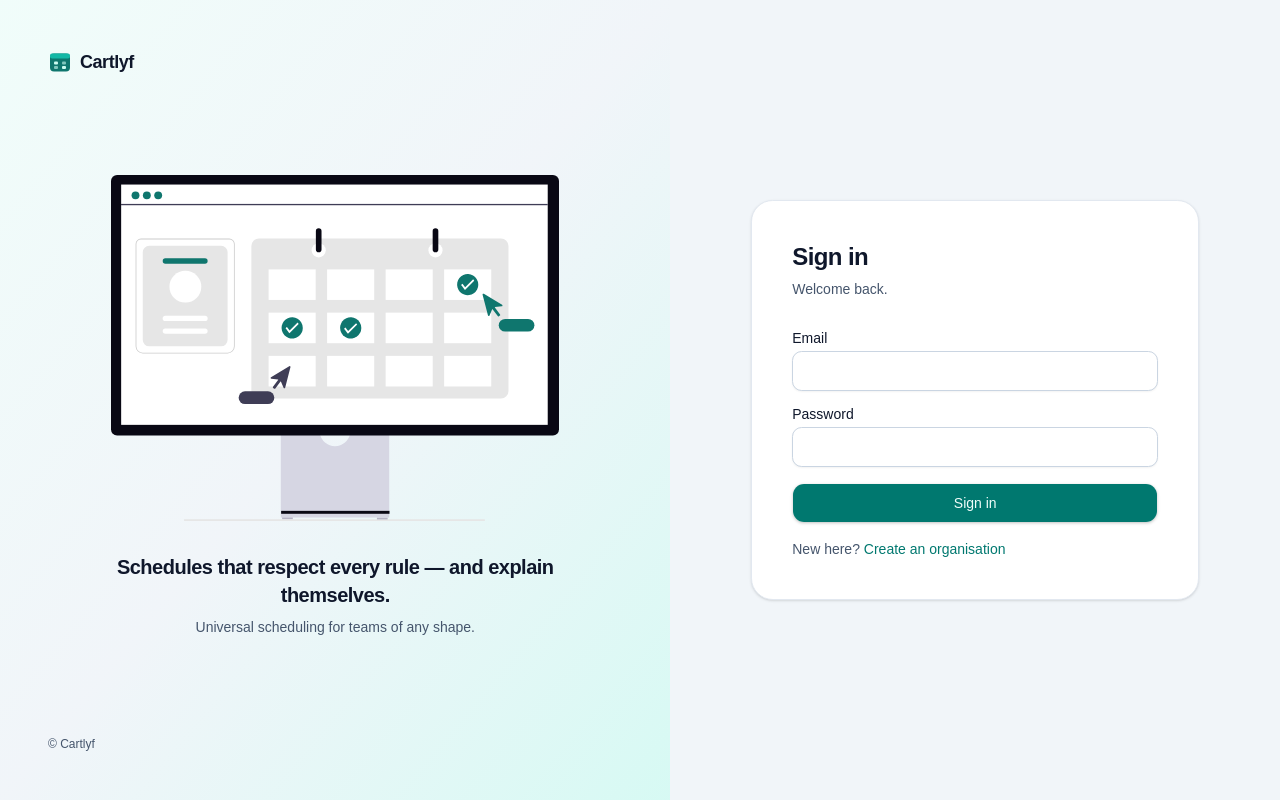
Test: LoginPage › shows one generic message for wrong credentials
Type "a@b.co" into the field labelled "Email" at (975, 371), box x1=792 y1=351 x2=1158 y2=391
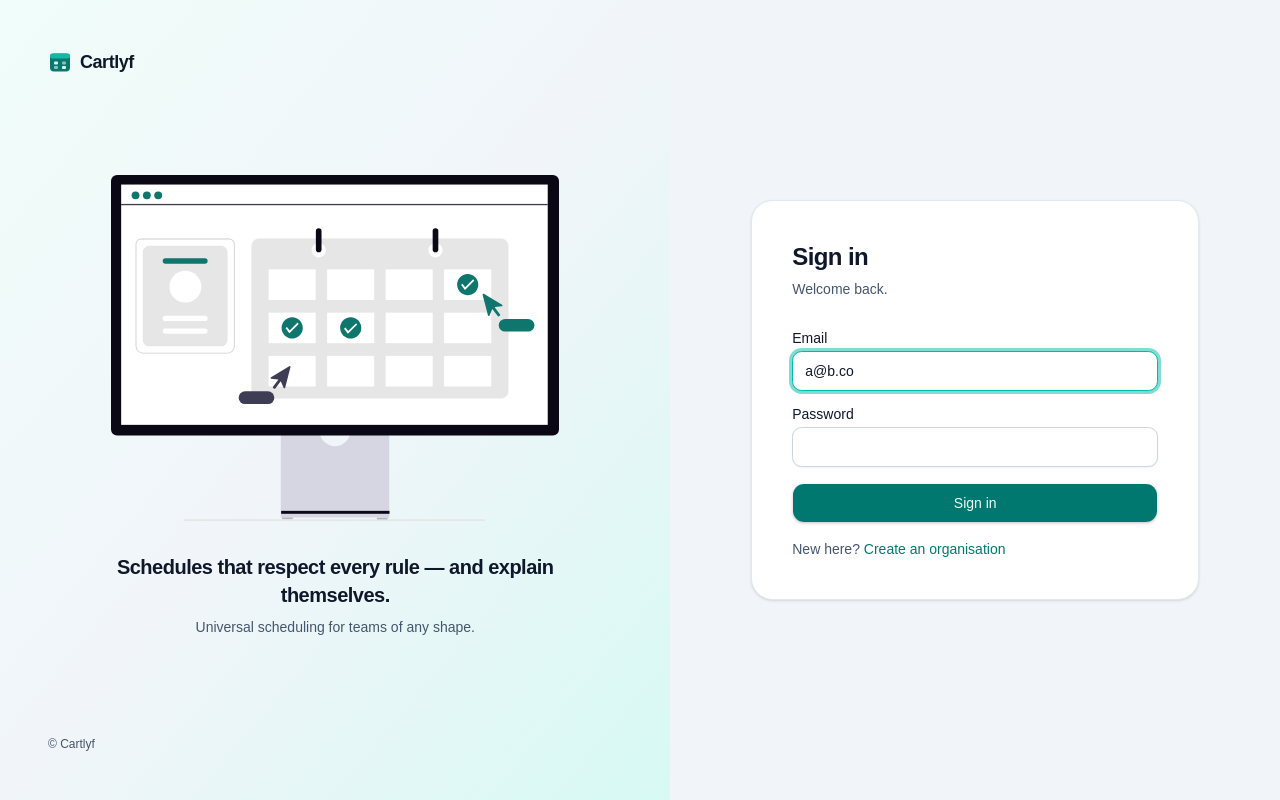
Type "wrong-password" into the password field labelled "Password" at (975, 447), box x1=792 y1=427 x2=1158 y2=467
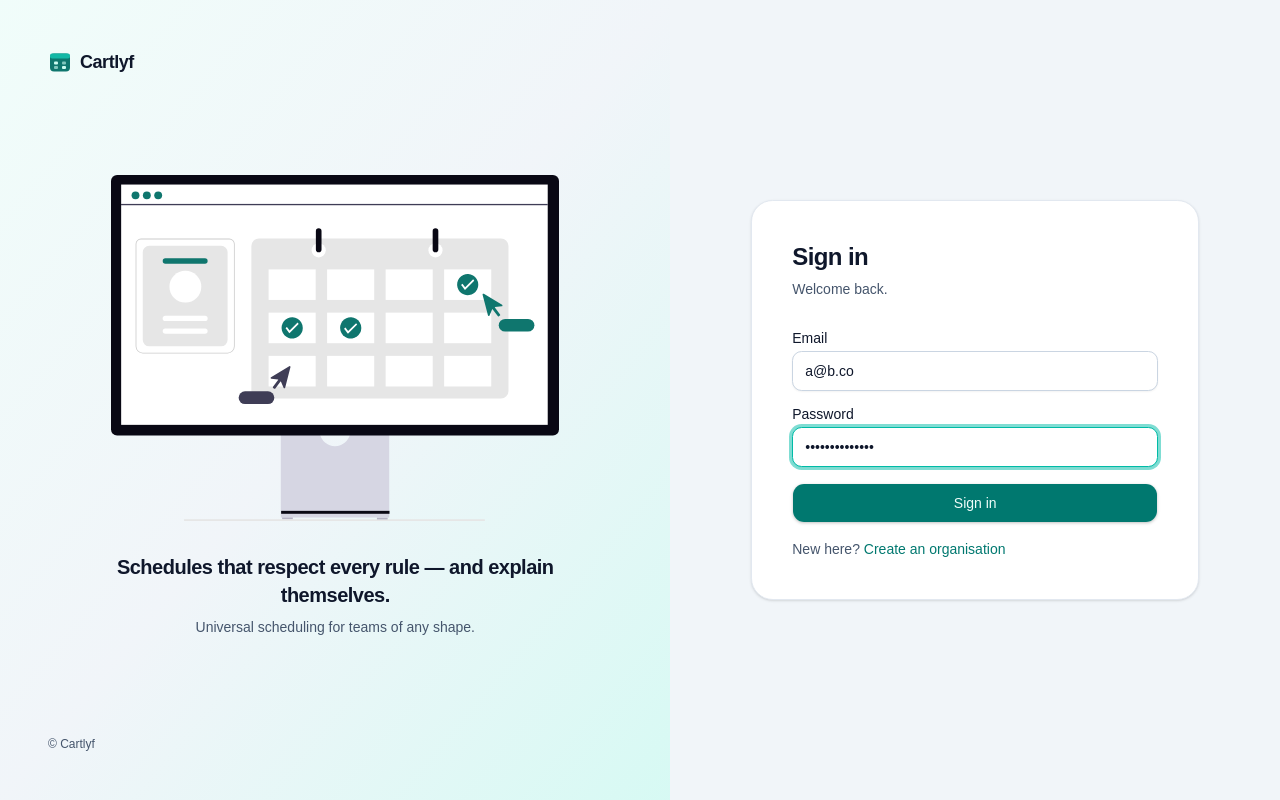
Click the button "Sign in" at (975, 503), box x1=792 y1=483 x2=1158 y2=523
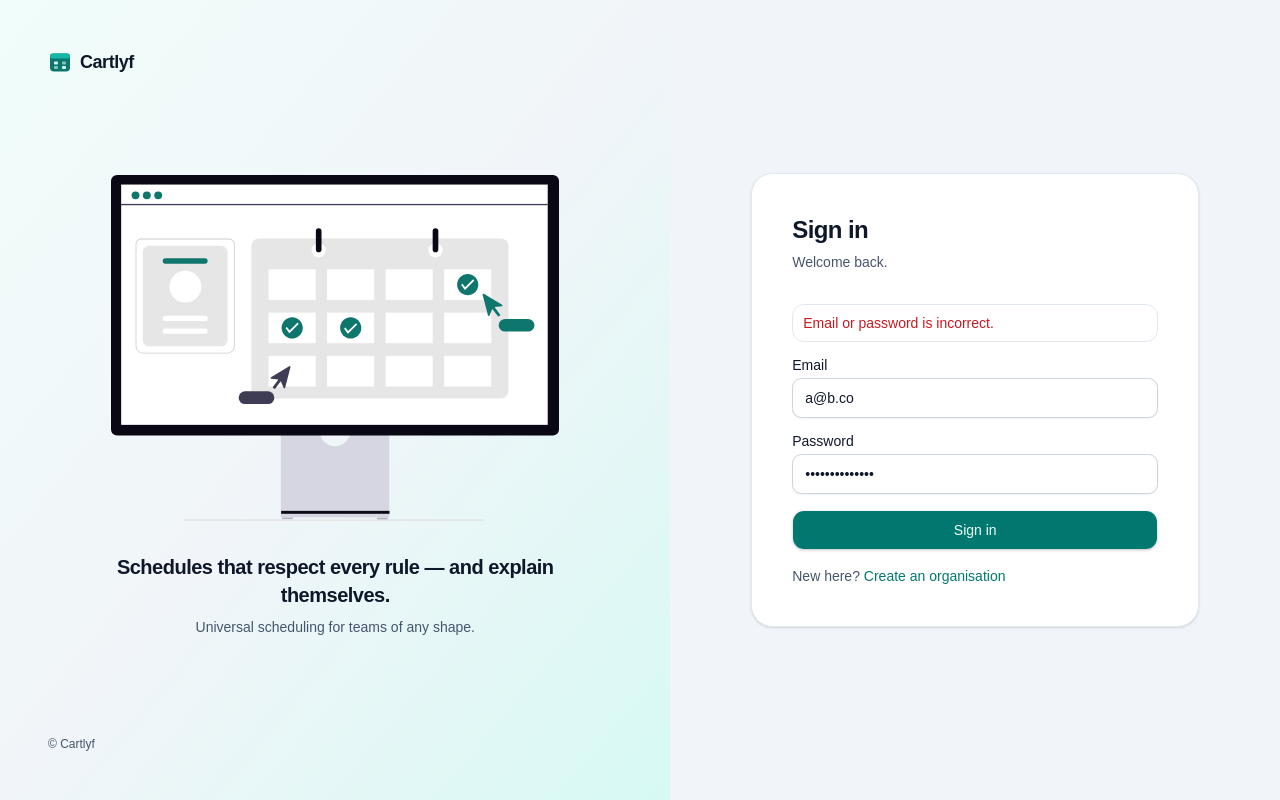
Expected: the message reads "Email or password is incorrect.", x1=803 y1=315 x2=994 y2=331
